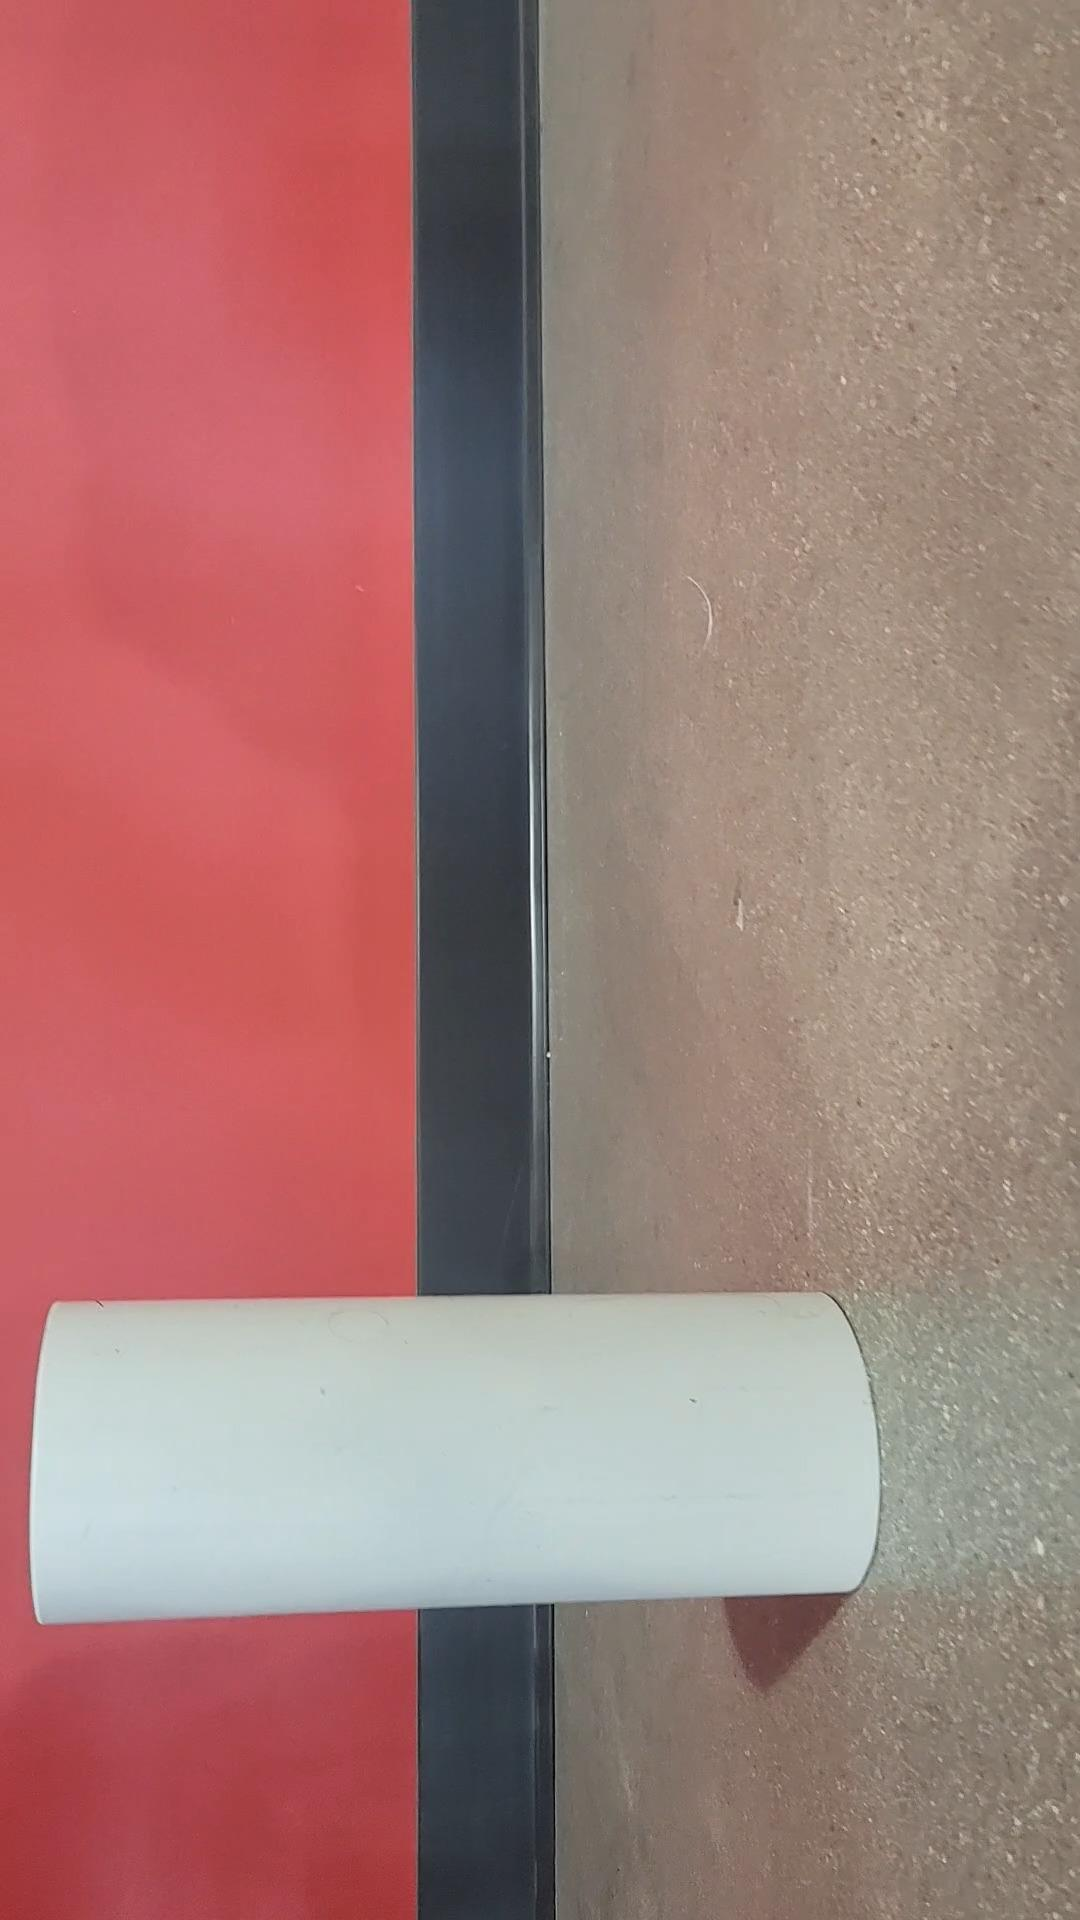coral: (33, 1292, 885, 1622)
